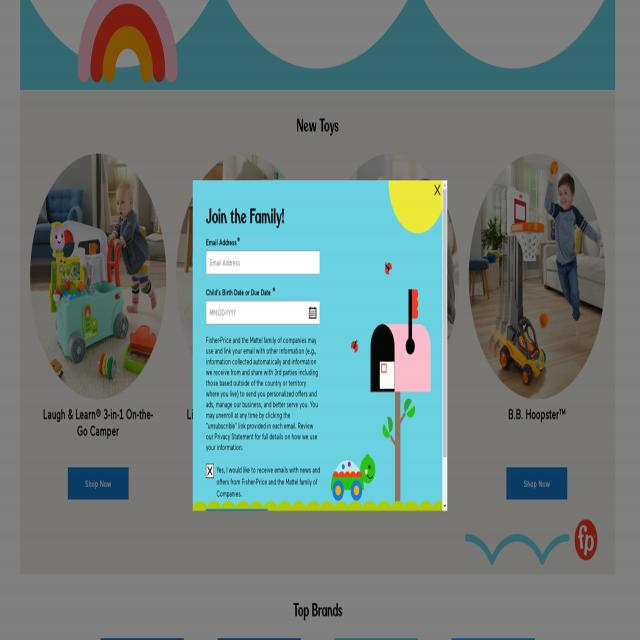button: (443, 190, 447, 457), (434, 182, 442, 197), (442, 502, 448, 511), (443, 180, 447, 188)
field: (206, 251, 320, 274), (206, 301, 320, 324), (206, 465, 214, 478)
